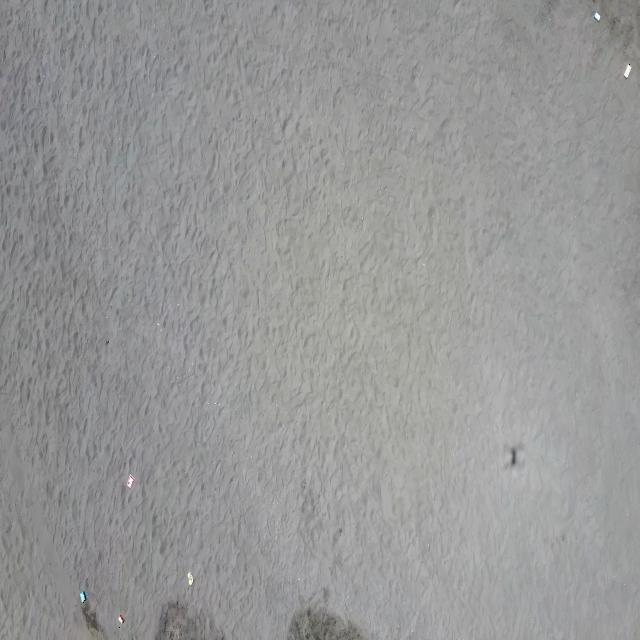Garbage: (125, 473, 134, 487), (623, 64, 630, 77), (592, 11, 600, 20), (80, 591, 85, 603), (187, 572, 192, 584), (118, 612, 123, 624)
